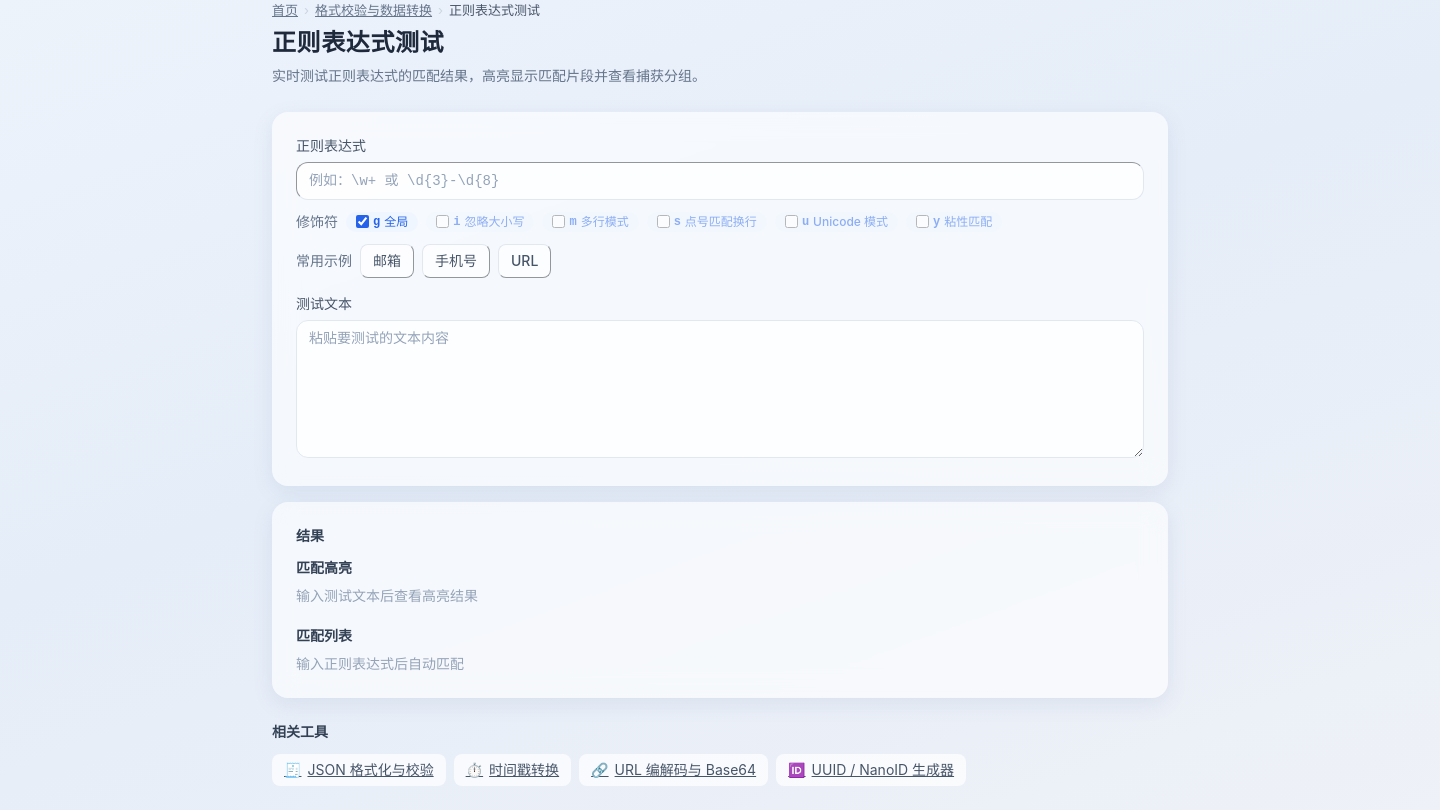
Test: RegexTester 组件测试 › 非法正则显示错误且不崩溃
This screenshot has width=1440, height=810.
Type "([" into the field labelled "正则表达式" at (720, 181), box [296,162,1144,200]
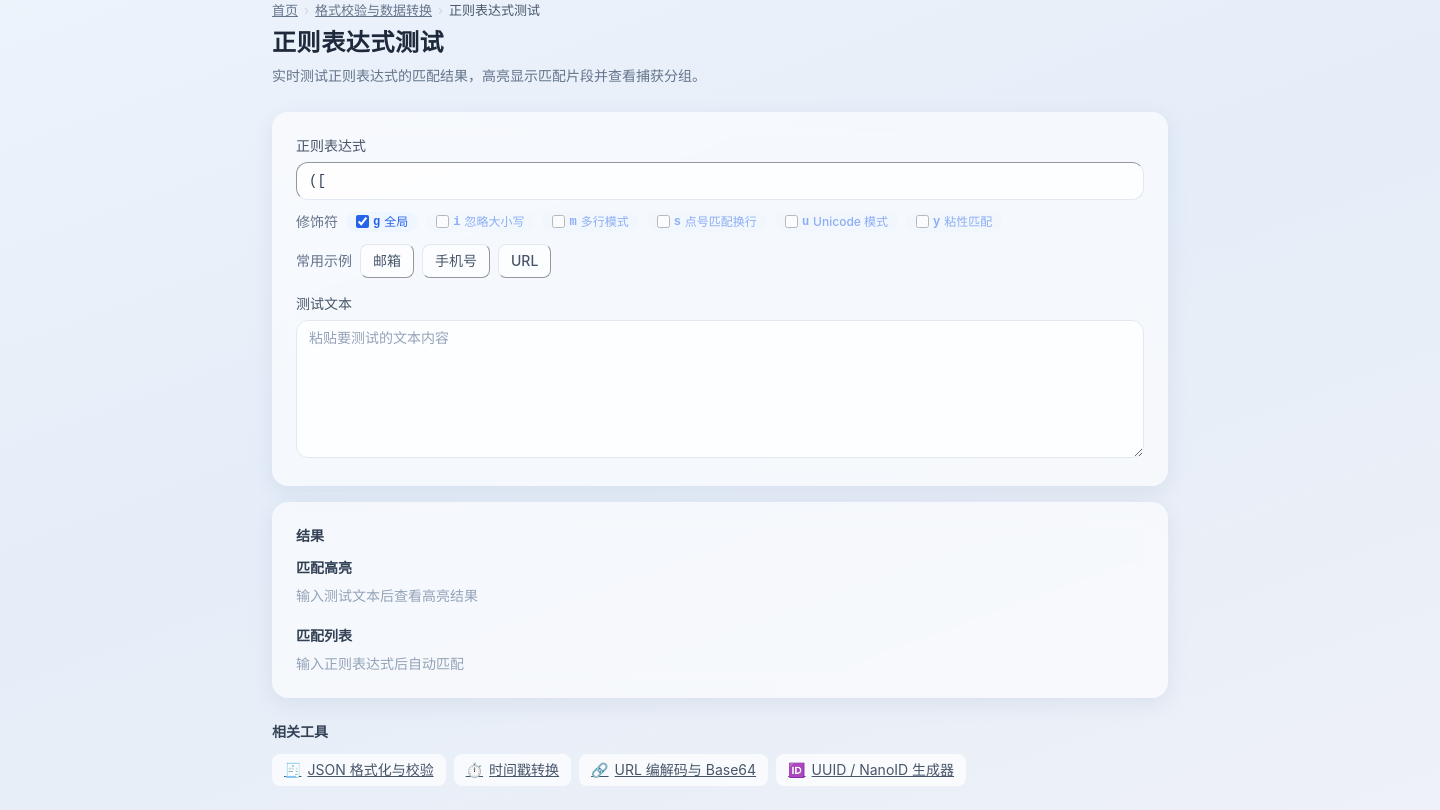
Type "abc" into the text box labelled "测试文本" at (720, 389), box [296,320,1144,458]
Wait 400 ms
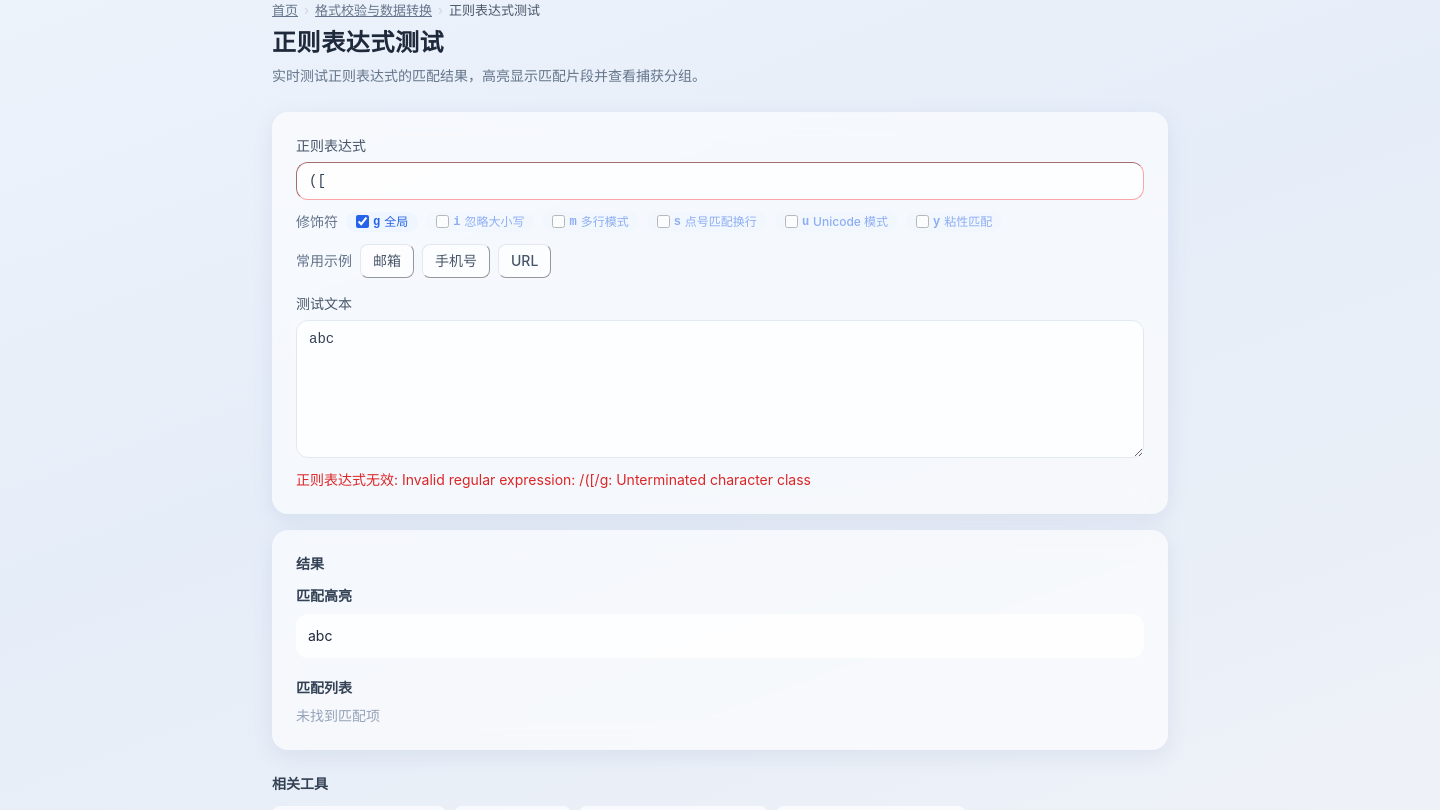
Now the text "正则表达式无效: Invalid regular expression: /([/g: Unterminated character class" is shown, box [296,471,811,488]
